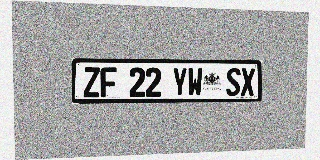2: (129, 67, 145, 97), (146, 67, 161, 97)
F: (100, 67, 117, 97)
S: (226, 68, 240, 96)
W: (188, 68, 202, 96)
X: (241, 68, 255, 96)
Y: (172, 67, 187, 96)
Z: (83, 67, 100, 97)
